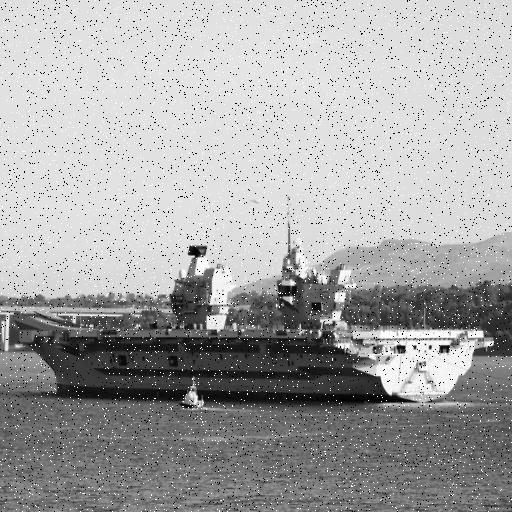Portanaves: (11, 192, 498, 412)
